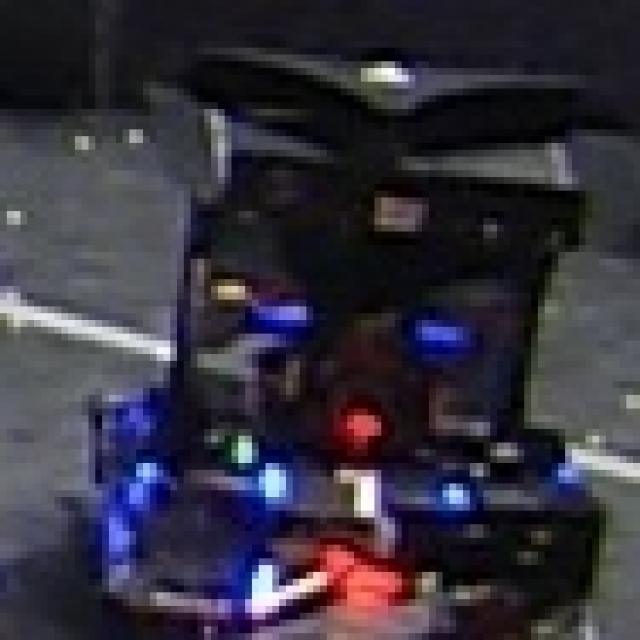B1: (252, 449, 470, 531)
